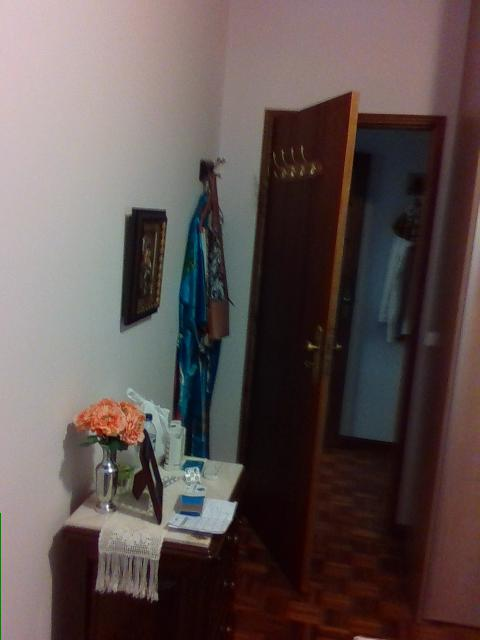semi_door: (230, 84, 449, 598)
